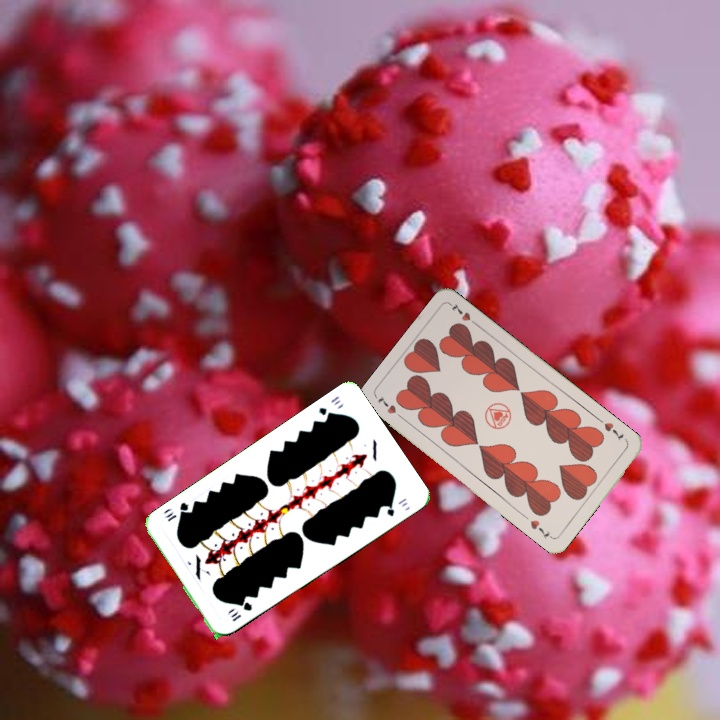G10: (315, 392, 343, 421), (226, 598, 255, 624)
H7: (373, 392, 407, 423), (600, 418, 627, 443)
